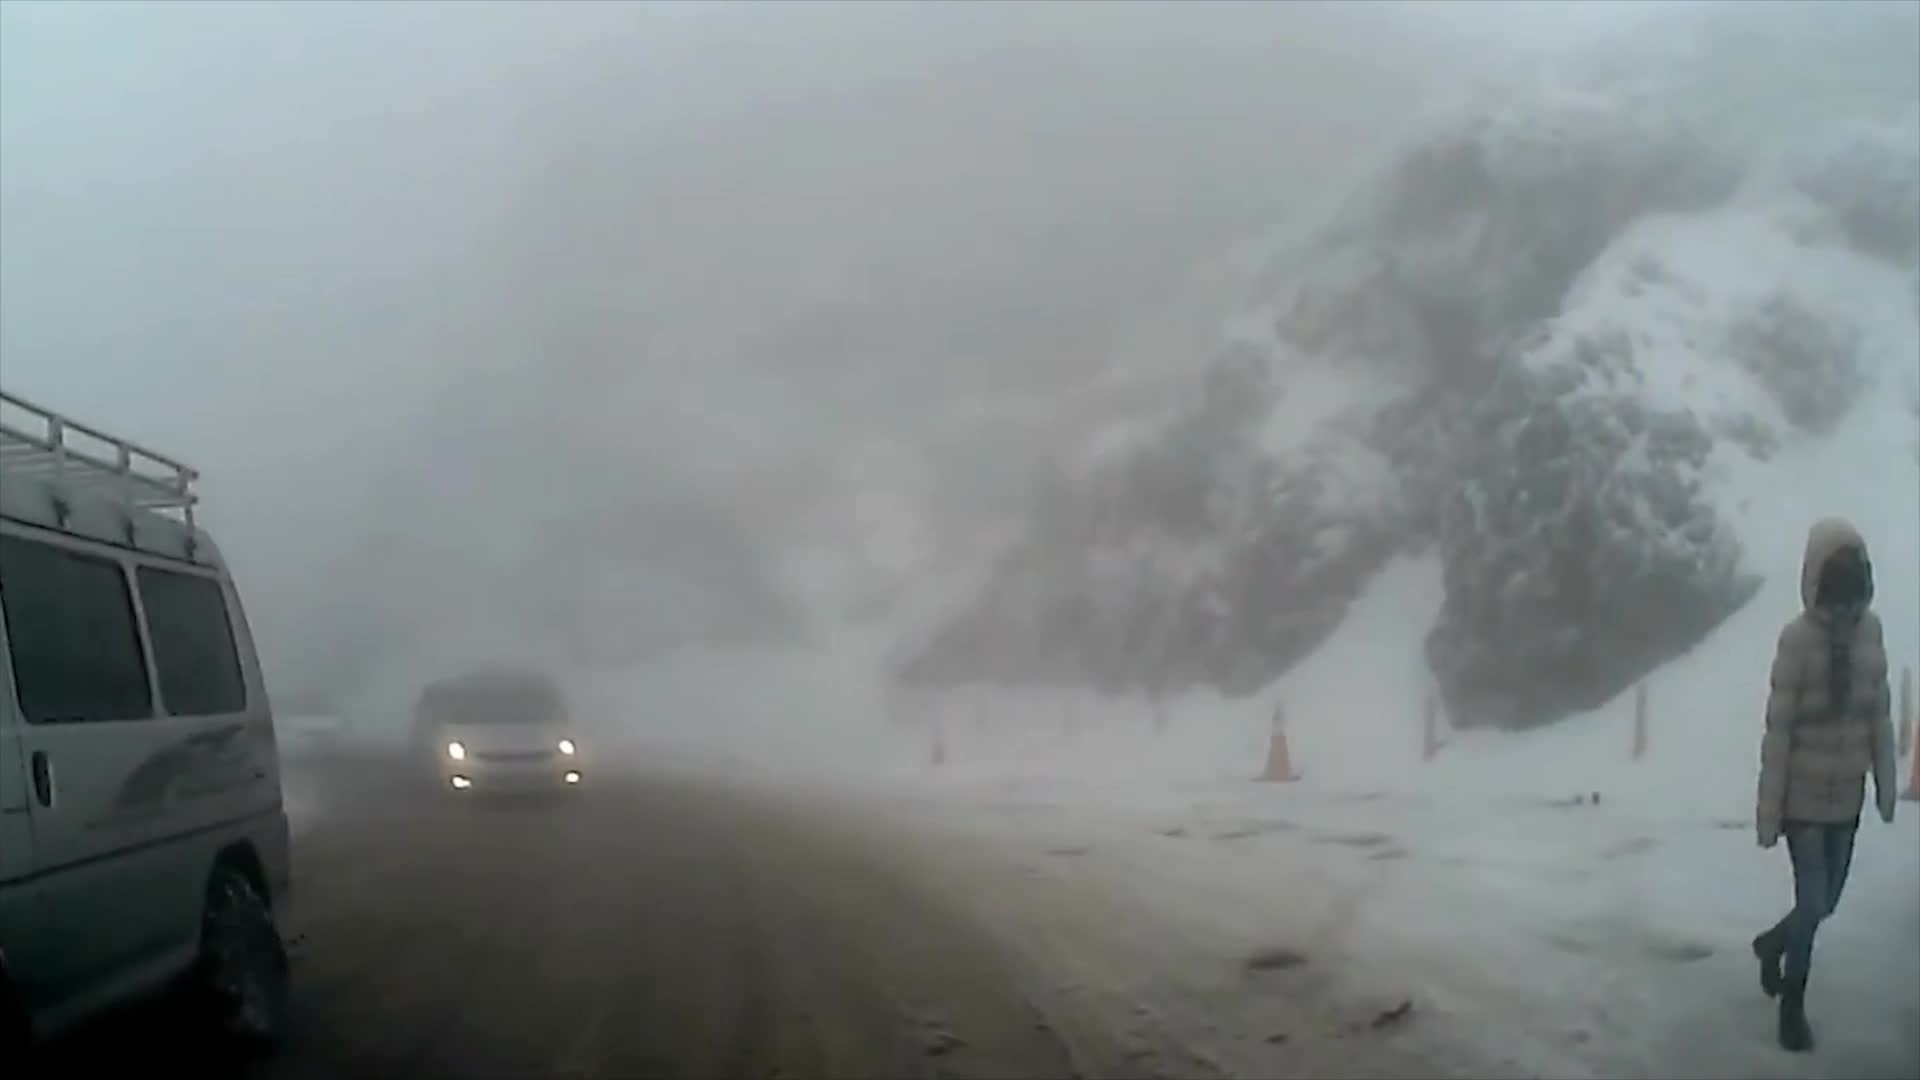pedestrian: (1753, 516, 1900, 1056)
vehicle: (0, 385, 319, 1080), (406, 673, 588, 810)
